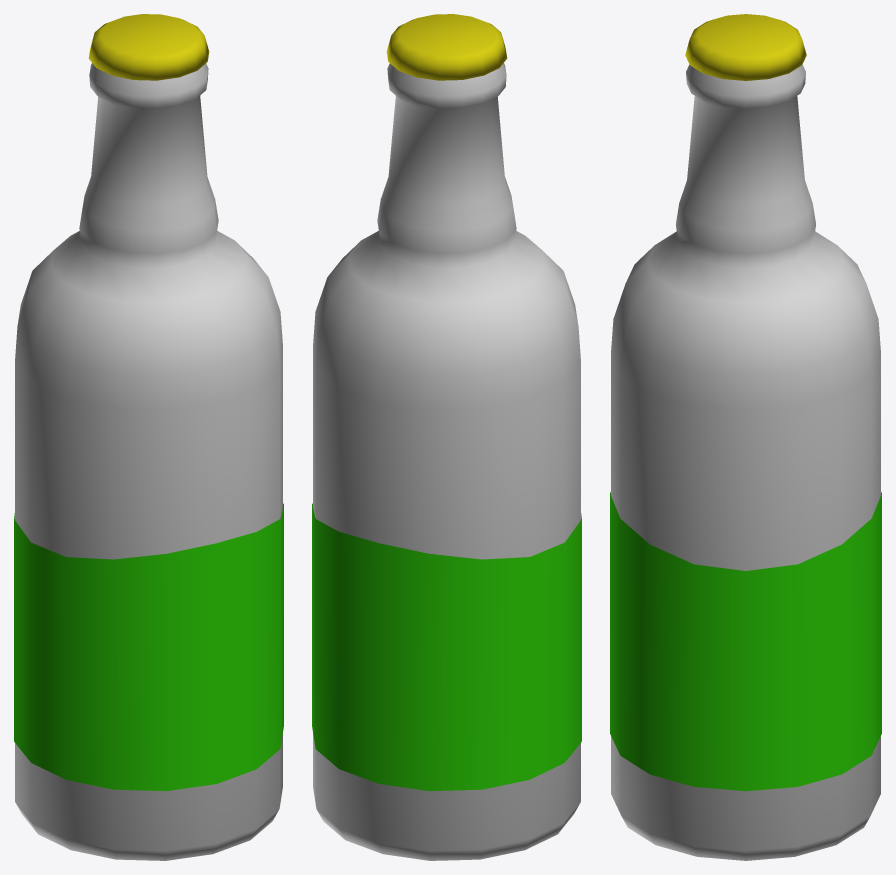
Rendered from BHP_MOD_E_BOT_Cider.fbx.
The picture shows the model from 3 angles, left to right: view 1: azimuth 30°, elevation 25°; view 2: azimuth 150°, elevation 25°; view 3: azimuth 270°, elevation 25°; orthographic projection.
Parts seen in each view (by area): view 1: BHP_MOD_E_BOT_Cider; view 2: BHP_MOD_E_BOT_Cider; view 3: BHP_MOD_E_BOT_Cider.
Boxes of the visible parts, x1,y1,x2,y2 form: BHP_MOD_E_BOT_Cider: [14, 14, 283, 860]; BHP_MOD_E_BOT_Cider: [312, 14, 581, 860]; BHP_MOD_E_BOT_Cider: [610, 14, 881, 860].
Size of the model in its own units: 0.0854 by 0.2675 by 0.0854.
